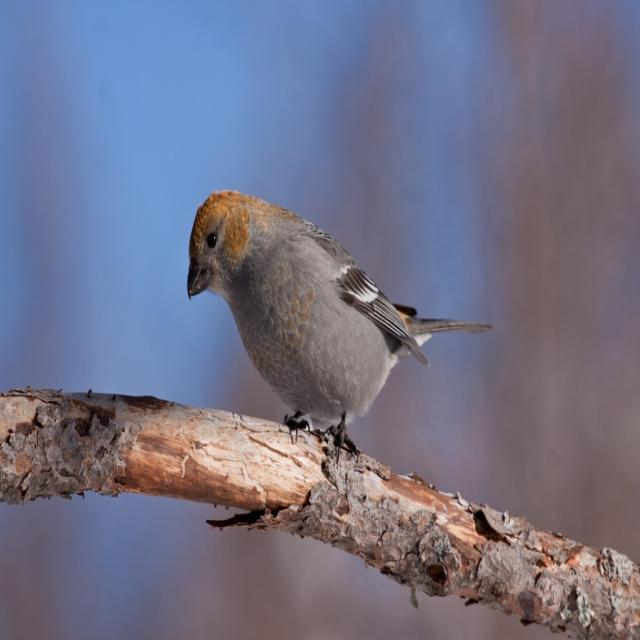bird: (182, 184, 498, 470)
